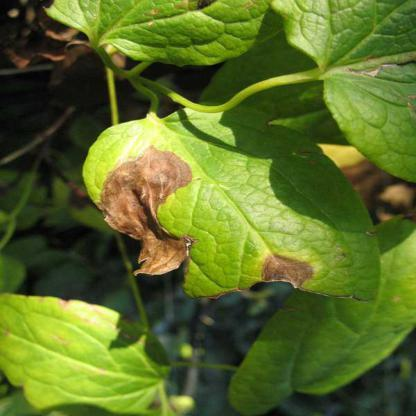Tomato leaf late blight: (67, 104, 382, 304)
